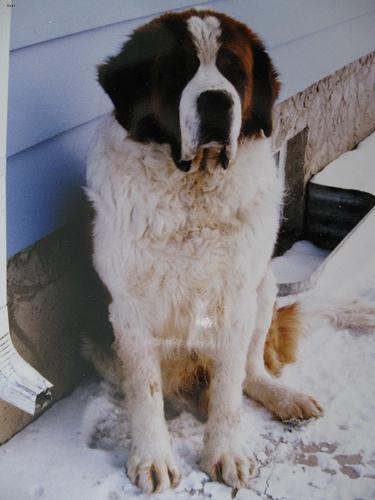dog-saint_bernard: (98, 10, 277, 172)
